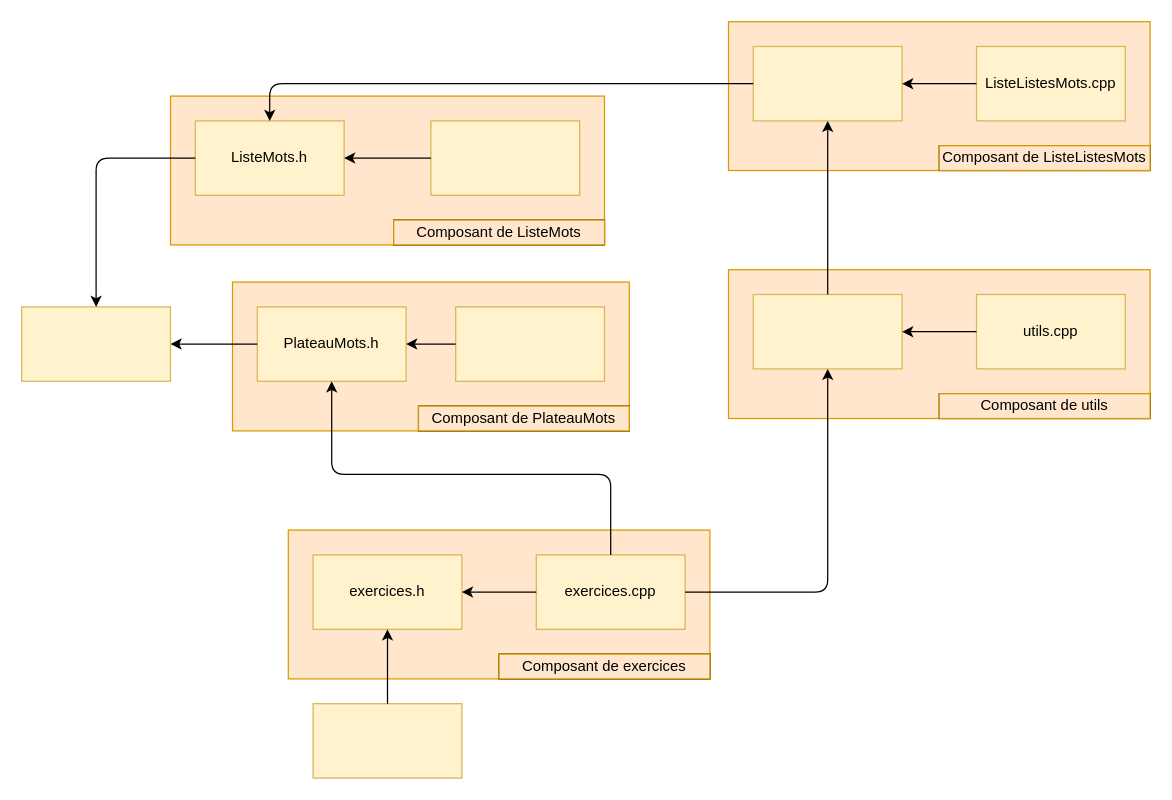
This 1172x800 diagram has some shape labels left out. Here are the shapes that lost their labels. From the top down, the box of each, then its label:
(752, 45, 902, 121): ListeListesMots.h
(430, 120, 580, 195): ListeMots.cpp
(20, 306, 170, 381): Mot.h
(454, 306, 604, 381): PlateauMots.cpp
(752, 293, 902, 369): utils.h
(312, 702, 462, 778): main.cpp
